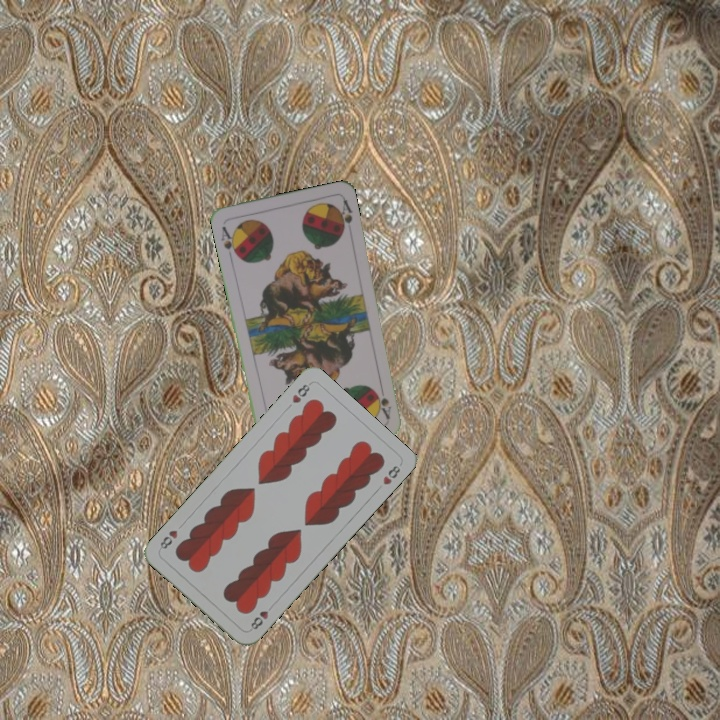H8: (288, 379, 313, 406), (247, 606, 271, 632)
SA: (217, 222, 241, 259), (373, 388, 394, 420)
